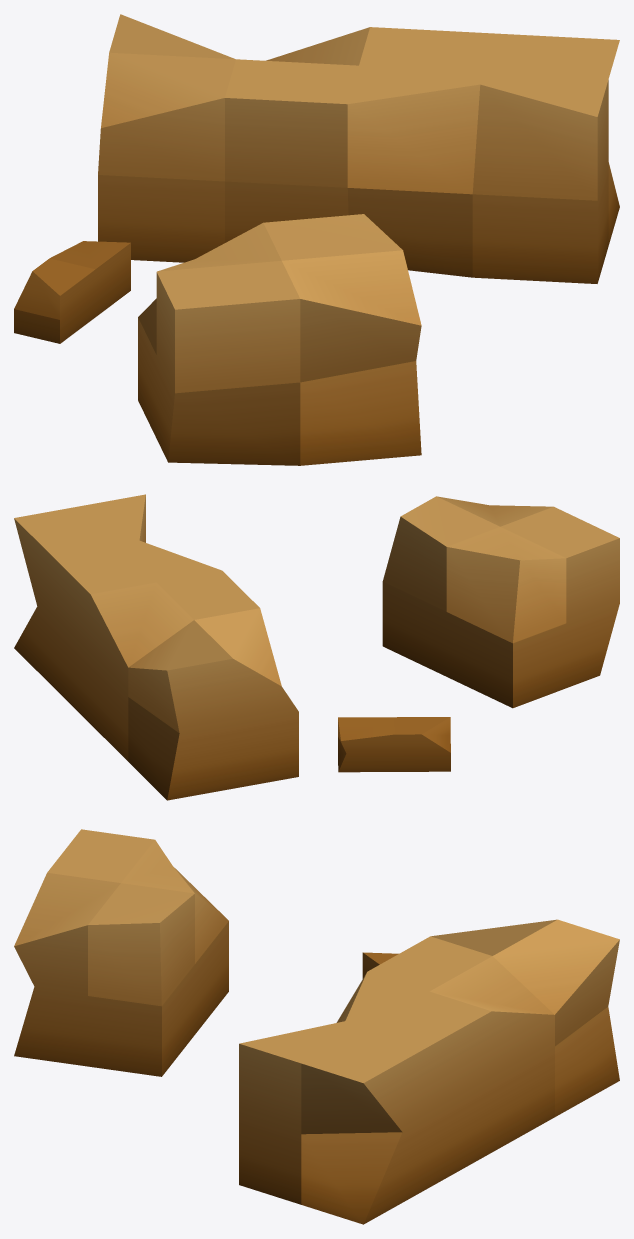
Rendered from ruins_07.fbx.
3 views of the same model, one above another, from view 1: azimuth 30°, elevation 25°; view 2: azimuth 150°, elevation 25°; view 3: azimuth 270°, elevation 25° (orthographic). The views are drawn at different scales.
Parts seen in each view (by area): view 1: ruins_07; view 2: ruins_07; view 3: ruins_07.
Part boxes in pixels (x1,y1,x2,y2): ruins_07: (14, 14, 619, 465); ruins_07: (14, 494, 619, 800); ruins_07: (14, 829, 619, 1224).
Size of the model in its own units: 180 by 48.57 by 182.
